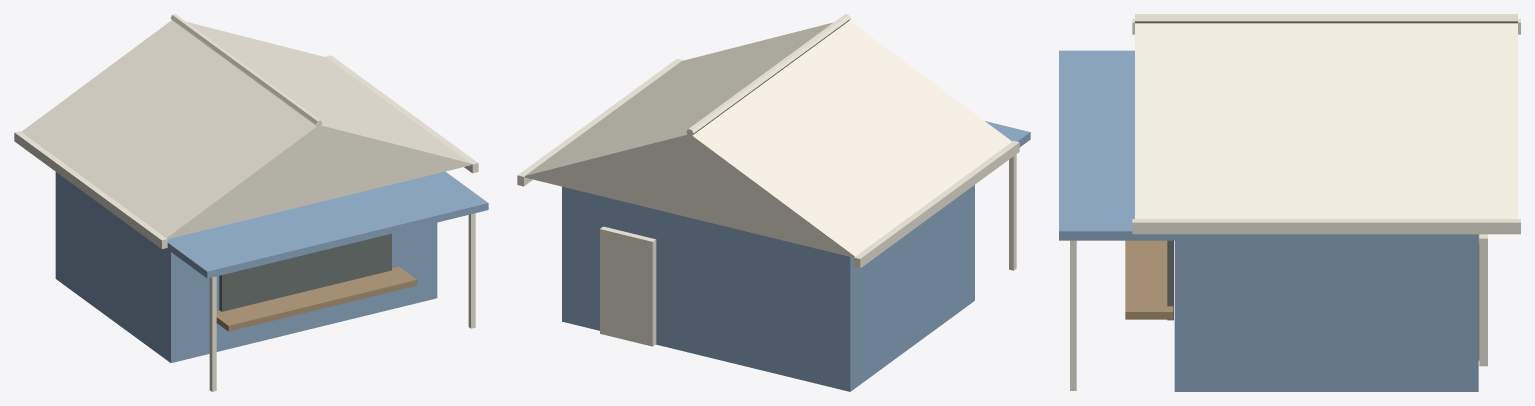
3 renders of one model, left to right at view 1: azimuth 30°, elevation 25°; view 2: azimuth 150°, elevation 25°; view 3: azimuth 270°, elevation 25°, orthographic. The views are drawn at different scales.
Size of the model in its own units: 8.56 by 5.71 by 8.2.
